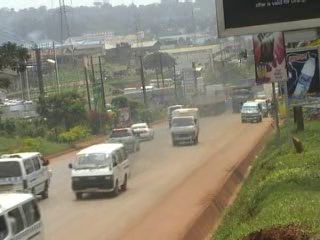Car: (107, 124, 141, 158), (127, 121, 156, 142)
